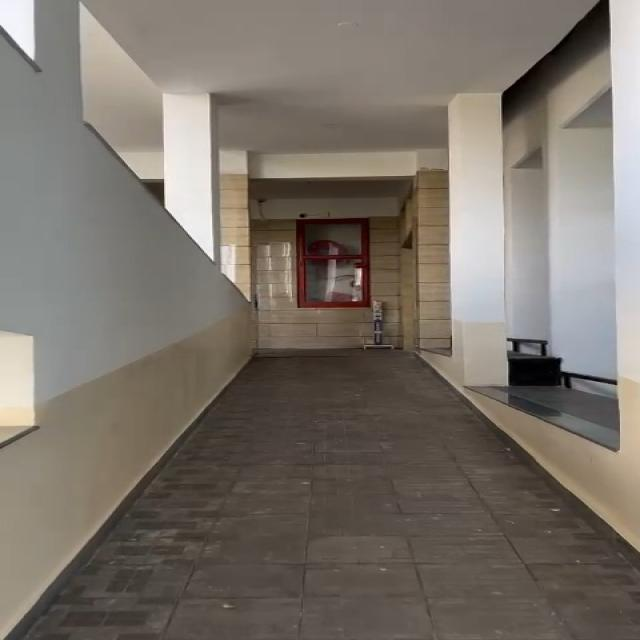floor: (136, 488, 598, 640), (256, 352, 438, 491)
wall: (0, 1, 241, 419), (411, 102, 640, 374)
